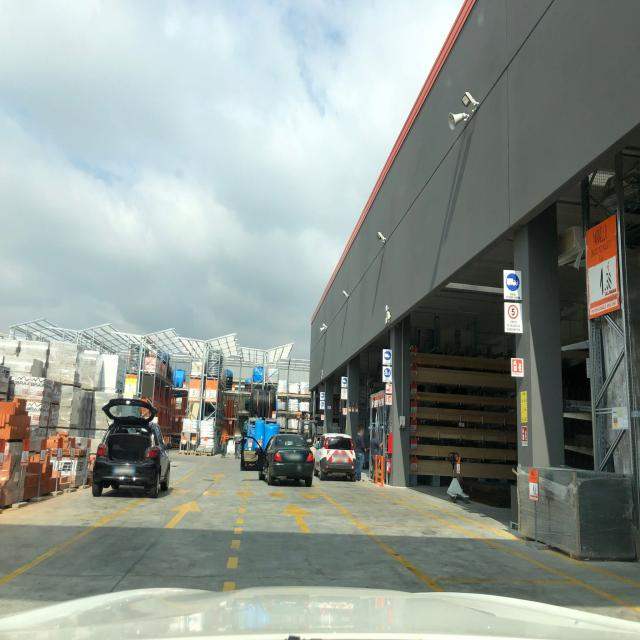car: (91, 398, 170, 498), (258, 432, 314, 486), (313, 432, 358, 481)
